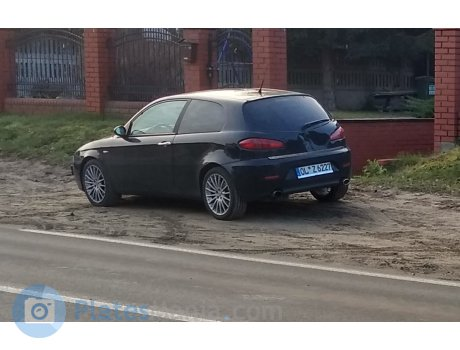License Plates: (296, 162, 333, 174)
